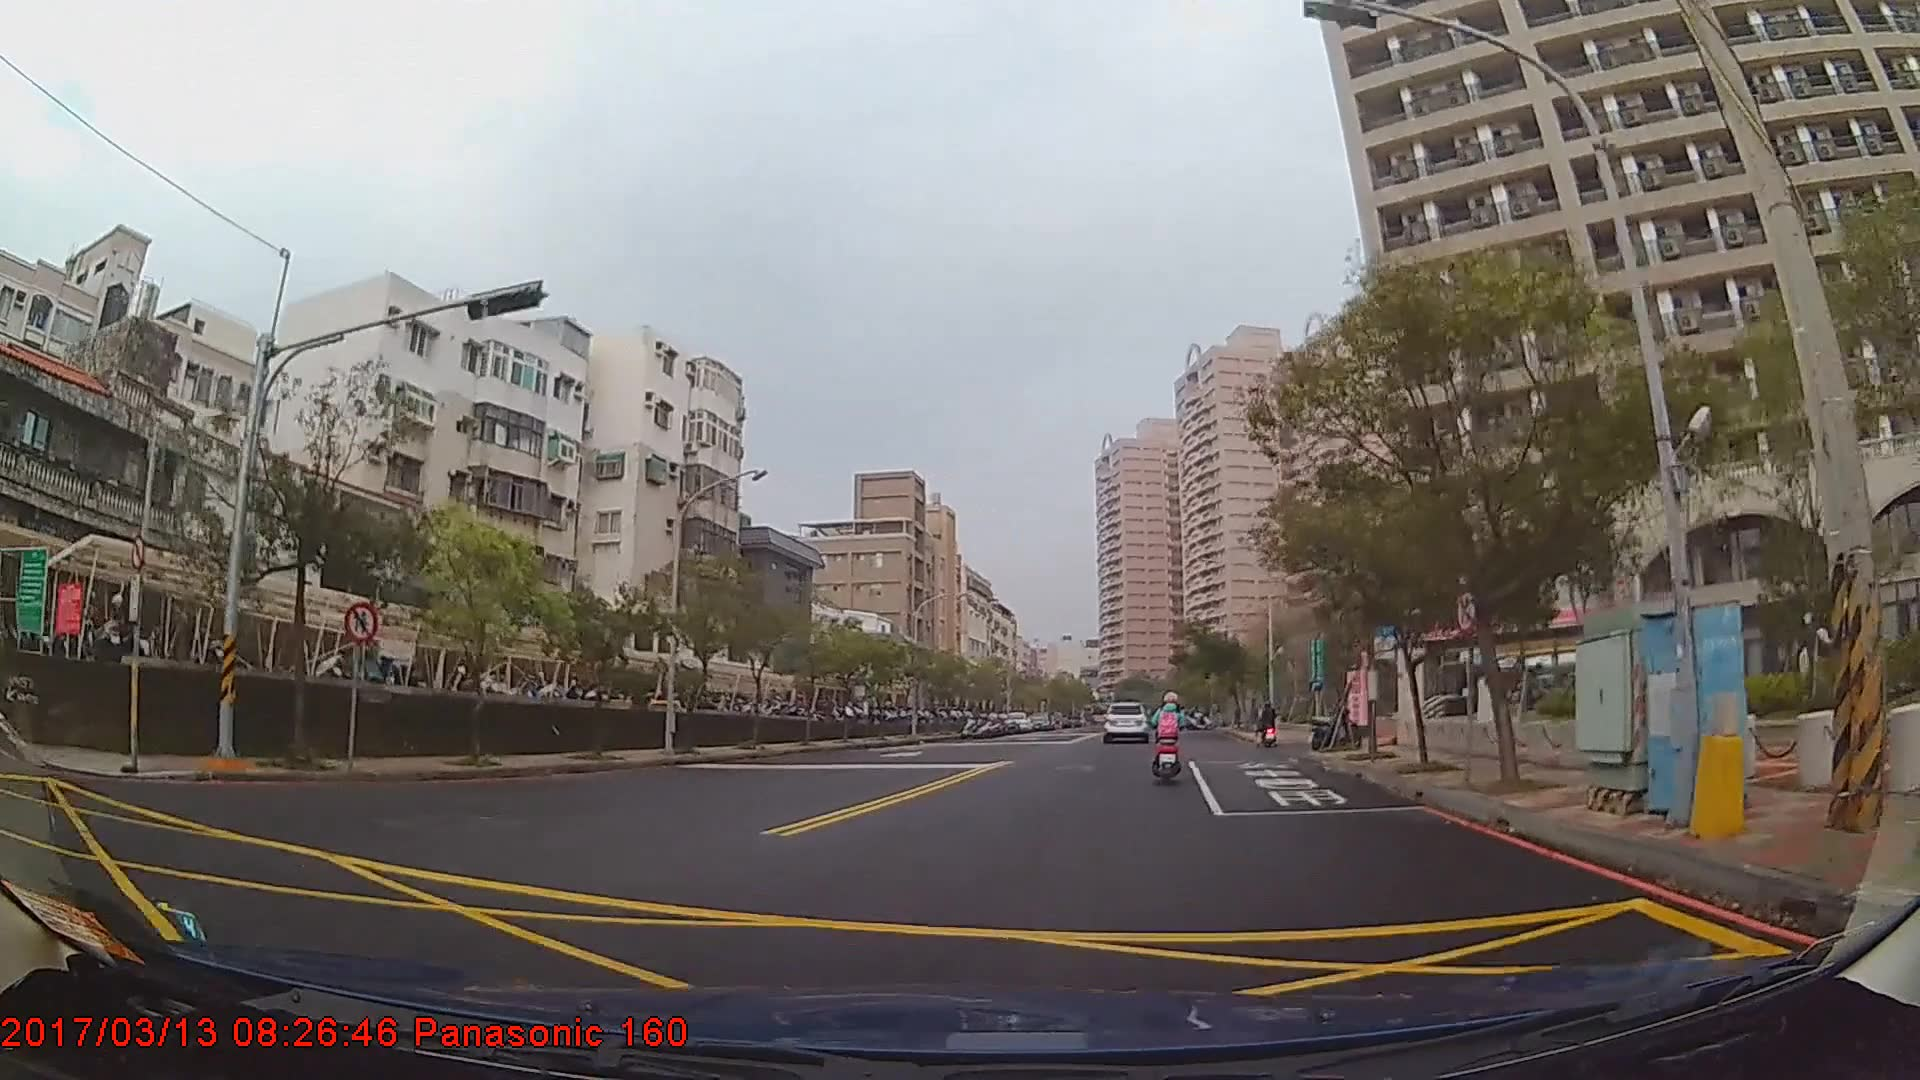rider: (1147, 694, 1195, 780), (1258, 701, 1280, 745)
vehicle: (1102, 697, 1150, 740)
